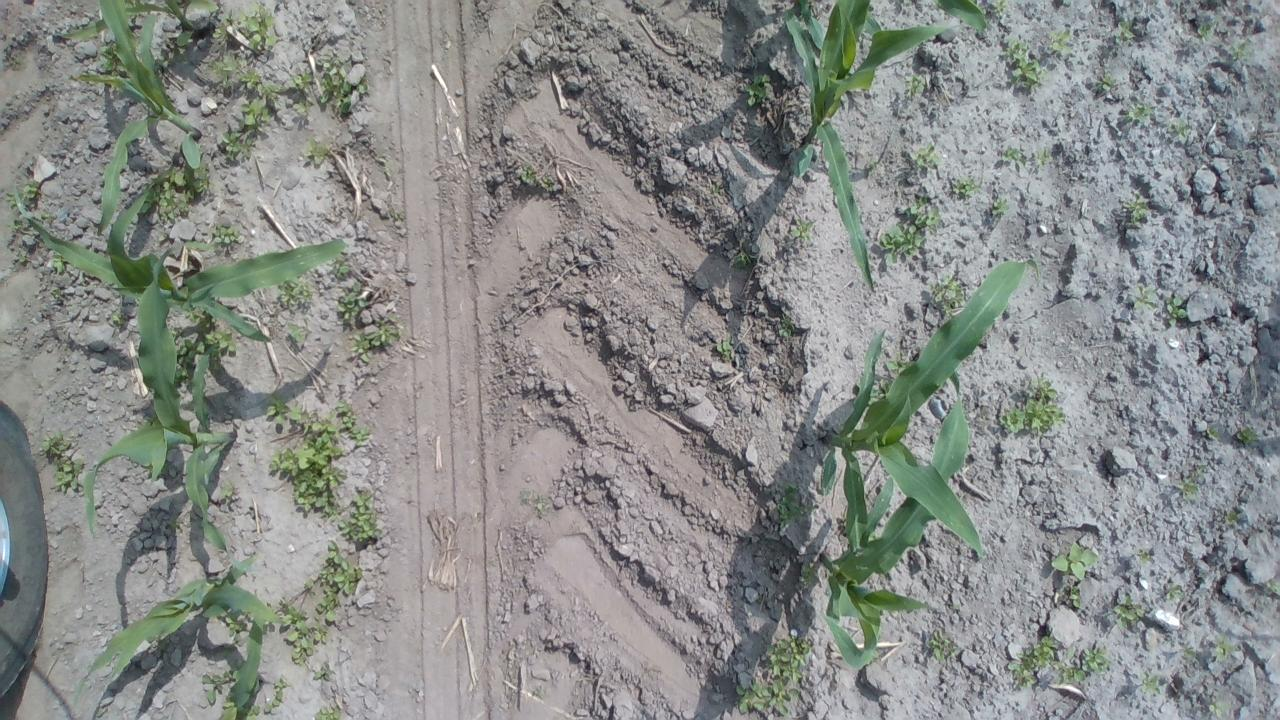Maize: (822, 257, 1044, 558), (15, 163, 345, 344), (82, 238, 254, 574), (784, 0, 960, 292), (819, 368, 970, 670), (75, 556, 298, 720), (77, 0, 203, 231), (796, 0, 988, 53), (54, 0, 222, 47)
Weeds: (262, 391, 356, 524), (998, 378, 1066, 436), (136, 166, 193, 220), (318, 55, 371, 113), (734, 676, 800, 718), (1007, 636, 1057, 686), (1000, 37, 1046, 90), (319, 540, 363, 594), (279, 600, 315, 665), (338, 490, 382, 542), (764, 634, 811, 682), (1058, 645, 1110, 685), (774, 482, 814, 532), (1048, 542, 1098, 582), (241, 1, 279, 52), (878, 222, 922, 263), (926, 274, 965, 319), (202, 660, 242, 702), (172, 338, 204, 388), (154, 29, 194, 68), (220, 125, 262, 162), (905, 195, 941, 234), (204, 330, 238, 369), (208, 54, 245, 89), (338, 281, 367, 323), (52, 456, 84, 492), (369, 314, 403, 347), (1112, 596, 1146, 628), (276, 274, 312, 304), (98, 42, 126, 77), (928, 630, 958, 662), (316, 586, 342, 622), (744, 74, 772, 107), (240, 97, 270, 127), (222, 608, 248, 642), (264, 678, 288, 713), (910, 142, 942, 168), (1122, 194, 1148, 224), (212, 12, 238, 40), (192, 162, 214, 194), (1164, 295, 1186, 326), (867, 378, 893, 404), (351, 330, 372, 362), (40, 430, 69, 453), (1124, 102, 1154, 124), (886, 352, 915, 374), (304, 138, 328, 164), (1048, 29, 1072, 55), (210, 224, 238, 246), (18, 180, 41, 206), (1168, 118, 1192, 142), (790, 218, 814, 242), (1140, 670, 1162, 696), (185, 308, 216, 326), (290, 70, 314, 93), (1133, 286, 1158, 308), (952, 178, 982, 196), (904, 74, 925, 99), (716, 336, 735, 362), (1215, 634, 1234, 660), (349, 425, 371, 447), (1177, 478, 1199, 500), (1002, 147, 1026, 167), (798, 564, 818, 588), (238, 70, 261, 90), (257, 83, 281, 101), (236, 703, 261, 720), (314, 705, 342, 720), (1114, 22, 1134, 42), (314, 620, 330, 644), (1195, 24, 1214, 44), (328, 262, 349, 280), (288, 322, 306, 342), (1208, 702, 1230, 718), (137, 413, 160, 428), (779, 315, 794, 338), (991, 0, 1010, 18), (292, 98, 312, 115), (1068, 584, 1081, 609), (314, 662, 332, 680), (1034, 148, 1052, 166), (1098, 72, 1116, 90), (1236, 428, 1257, 443), (52, 250, 66, 272), (1232, 42, 1249, 60), (1166, 583, 1184, 600), (992, 198, 1009, 215), (536, 494, 549, 516), (520, 165, 534, 184), (218, 481, 232, 498), (540, 175, 554, 192), (1136, 550, 1152, 564), (390, 208, 405, 222), (1265, 580, 1280, 594), (5, 192, 18, 208), (6, 216, 22, 229), (40, 210, 54, 224), (1225, 509, 1238, 524), (731, 252, 746, 264), (1183, 648, 1198, 660), (168, 326, 184, 336), (111, 312, 124, 324), (380, 164, 392, 177), (1206, 428, 1220, 439), (49, 285, 61, 297), (12, 54, 22, 68), (168, 517, 180, 527), (711, 184, 720, 196), (304, 578, 314, 588), (1196, 465, 1204, 476), (142, 465, 152, 473), (18, 256, 28, 262)
